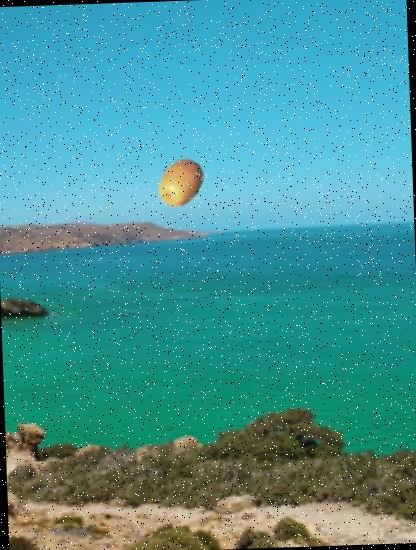Kumquats: (154, 156, 208, 210)
